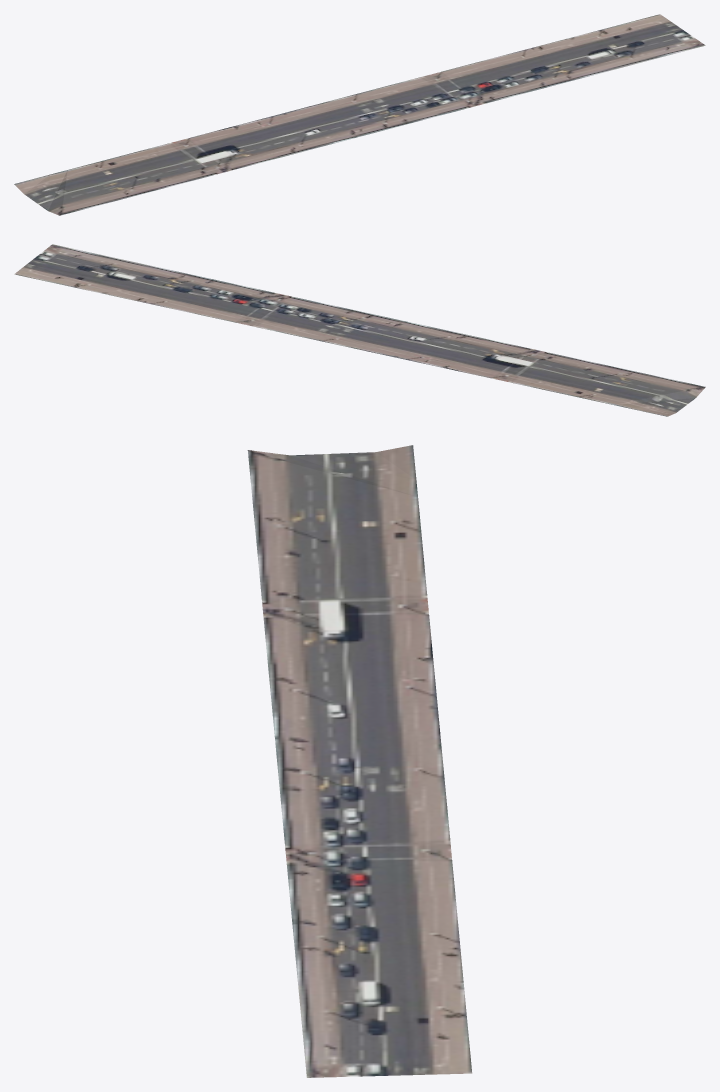
3 renders of one model, top to bottom at view 1: azimuth 30°, elevation 25°; view 2: azimuth 150°, elevation 25°; view 3: azimuth 270°, elevation 25°, orthographic. The views are drawn at different scales.
Visible parts, largest first — view 1: Z_UP; view 2: Z_UP; view 3: Z_UP.
Part boxes in pixels (bbox=[...]): Z_UP: bbox=[14, 14, 705, 215]; Z_UP: bbox=[14, 244, 705, 416]; Z_UP: bbox=[247, 445, 472, 1077].
Bounding box in the file's own units: 185 × 1.14 × 28.01.
1 material, 1 textured.
